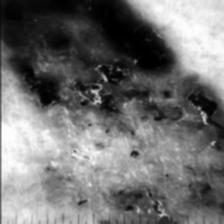Potentially Malignant Skin Tumors: (15, 0, 224, 224)
